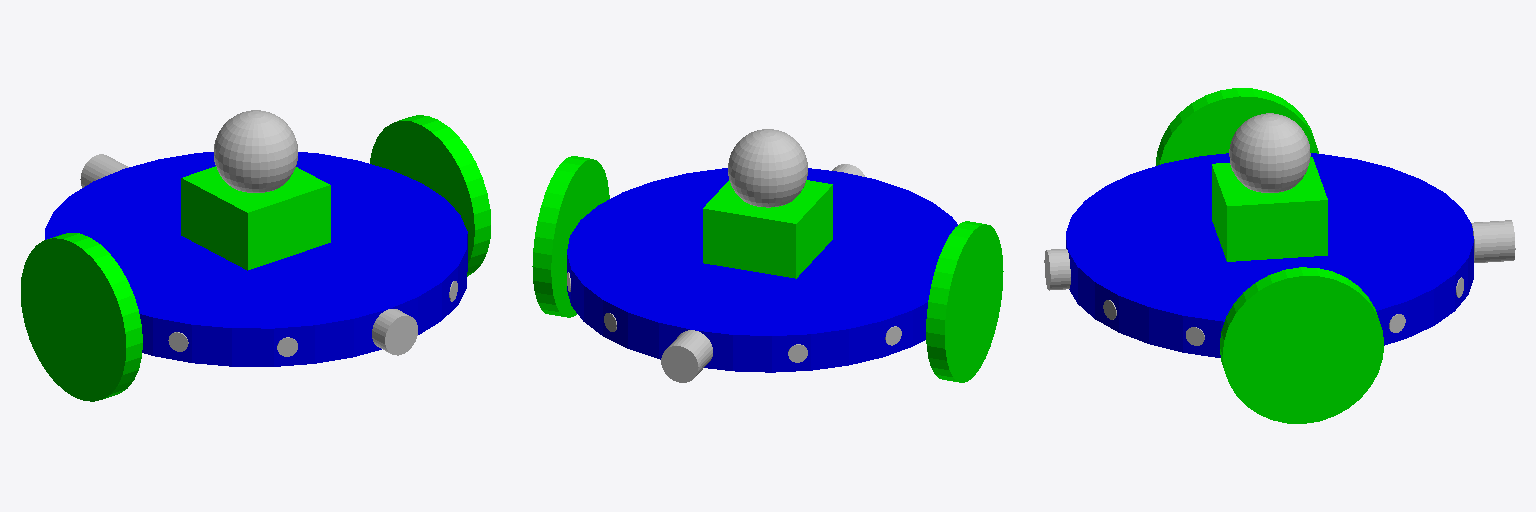
robot.urdf — vc_robot:
<?xml version="1.0"?>
<robot name="vc_robot">

<link name="world">
</link>

<link name="base">
<visual>
<origin xyz="0 0 0" rpy="0 0 0"/>
<geometry>
<cylinder length="0.4" radius="2.0"/>
</geometry>
<material name="blue">
<color rgba="0 0 1 1"/>
</material>
</visual>
<inertial>
<origin xyz="0 0 0" rpy="0 0 0" />
<mass value ="10"/>
<inertia ixx="100" ixy="0" ixz="0" iyy="100" iyz="0" izz="100"/>
</inertial>
</link>

<link name="main_wheel_axis">
<visual>
<origin xyz="0 0 0" rpy="1.5708 1.5708 0"/>
<geometry>
<cylinder length="3.9" radius="0.1"/>
</geometry>
<material name="green">
<color rgba="0.0 1 0.0 1"/>
</material>
</visual>
<inertial>
<origin rpy="0 0 0" xyz="0 0 0"/>
<mass value="5"/>
<inertia ixx="100" ixy="0" ixz="0" iyy="100" iyz="0" izz="100"/>
</inertial>
</link>

<link name="support_wheel_axis">
<visual>
<origin xyz="0 0 0" rpy="1.5708 1.5708 0"/>
<geometry>
<cylinder length="3.9" radius="0.1"/>
</geometry>
<material name="green">
<color rgba="0 1 0 1"/>
</material>
</visual>
<inertial>
<origin rpy="0 0 0" xyz="0 0 0"/>
<mass value="5"/>
<inertia ixx="100" ixy="0" ixz="0" iyy="100" iyz="0" izz="100"/>
</inertial>
</link>

<link name="main_wheel_one">
<visual>
<origin rpy="0 1.5708 0" xyz="0 0 0"/>
<geometry>
<cylinder length="0.2" radius="0.8"/>
</geometry>
<material name="green">
<color rgba="0 1 0 1"/>
</material>
</visual>
<inertial>
<origin rpy="0 0 0" xyz="0 0 0"/>
<mass value="5"/>
<inertia ixx="100" ixy="0" ixz="0" iyy="100" iyz="0" izz="100"/>
</inertial>
</link>

<link name="main_wheel_two">
<visual>
<origin rpy="0 1.5708 0" xyz="0 0 0"/>
<geometry>
<cylinder length="0.2" radius="0.8"/>
</geometry>
<material name="green">
<color rgba="0 1 0 1"/>
</material>
</visual>
<inertial>
<origin rpy="0 0 0" xyz="0 0 0"/>
<mass value="5"/>
<inertia ixx="100" ixy="0" ixz="0" iyy="100" iyz="0" izz="100"/>
</inertial>
</link>

<link name="support_wheel_one">
<visual>
<origin rpy="0 1.5708 0" xyz="0 0 0"/>
<geometry>
<sphere radius="0.2"/>
</geometry>
<material name="green">
<color rgba="0 1 0 1"/>
</material>
</visual>
<inertial>
<origin rpy="0 0 0" xyz="0 0 0"/>
<mass value="5"/>
<inertia ixx="100" ixy="0" ixz="0" iyy="100" iyz="0" izz="100"/>
</inertial>
</link>

<link name="support_wheel_two">
<visual>
<origin rpy="0 1.5708 0" xyz="0 0 0"/>
<geometry>
<sphere radius="0.2"/>
</geometry>
<material name="green">
<color rgba="0 1 0 1"/>
</material>
</visual>
<inertial>
<origin rpy="0 0 0" xyz="0 0 0"/>
<mass value="5"/>
<inertia ixx="100" ixy="0" ixz="0" iyy="100" iyz="0" izz="100"/>
</inertial>
</link>

<link name="ultrasonic_one">
<visual>
<origin xyz="0 0 0" rpy="0 1.5708 0" />
<geometry>
<cylinder radius="0.1" length="0.01"/>
</geometry>
<material name="gray">
<color rgba="0.8 0.8 0.8 1"/>
</material>
</visual>
<inertial>
<origin xyz="0 0 0" rpy="0 0 0" />
<mass value ="0.1"/>
<inertia ixx="100" ixy="0" ixz="0" iyy="100" iyz="0" izz="100"/>
</inertial>
</link>

<link name="ultrasonic_two">
<visual>
<origin xyz="0 0 0" rpy="0 1.5708 0" />
<geometry>
<cylinder radius="0.1" length="0.01"/>
</geometry>
<material name="gray">
<color rgba="0.8 0.8 0.8 1"/>
</material>
</visual>
<inertial>
<origin xyz="0 0 0" rpy="0 0 0" />
<mass value ="0.1"/>
<inertia ixx="100" ixy="0" ixz="0" iyy="100" iyz="0" izz="100"/>
</inertial>
</link>

<link name="ultrasonic_three">
<visual>
<origin xyz="0 0 0" rpy="0 1.5708 0" />
<geometry>
<cylinder radius="0.1" length="0.01"/>
</geometry>
<material name="gray">
<color rgba="0.8 0.8 0.8 1"/>
</material>
</visual>
<inertial>
<origin xyz="0 0 0" rpy="0 0 0" />
<mass value ="0.1"/>
<inertia ixx="100" ixy="0" ixz="0" iyy="100" iyz="0" izz="100"/>
</inertial>
</link>

<link name="ultrasonic_four">
<visual>
<origin xyz="0 0 0" rpy="0 1.5708 0" />
<geometry>
<cylinder radius="0.1" length="0.01"/>
</geometry>
<material name="gray">
<color rgba="0.8 0.8 0.8 1"/>
</material>
</visual>
<inertial>
<origin xyz="0 0 0" rpy="0 0 0" />
<mass value ="0.1"/>
<inertia ixx="100" ixy="0" ixz="0" iyy="100" iyz="0" izz="100"/>
</inertial>
</link>

<link name="ultrasonic_five">
<visual>
<origin xyz="0 0 0" rpy="0 1.5708 0" />
<geometry>
<cylinder radius="0.1" length="0.01"/>
</geometry>
<material name="gray">
<color rgba="0.8 0.8 0.8 1"/>
</material>
</visual>
<inertial>
<origin xyz="0 0 0" rpy="0 0 0" />
<mass value ="0.1"/>
<inertia ixx="100" ixy="0" ixz="0" iyy="100" iyz="0" izz="100"/>
</inertial>
</link>

<link name="ultrasonic_six">
<visual>
<origin xyz="0 0 0" rpy="0 1.5708 0" />
<geometry>
<cylinder radius="0.1" length="0.01"/>
</geometry>
<material name="gray">
<color rgba="0.8 0.8 0.8 1"/>
</material>
</visual>
<inertial>
<origin xyz="0 0 0" rpy="0 0 0" />
<mass value ="0.1"/>
<inertia ixx="100" ixy="0" ixz="0" iyy="100" iyz="0" izz="100"/>
</inertial>
</link>

<link name="ultrasonic_seven">
<visual>
<origin xyz="0 0 0" rpy="0 1.5708 0" />
<geometry>
<cylinder radius="0.1" length="0.01"/>
</geometry>
<material name="gray">
<color rgba="0.8 0.8 0.8 1"/>
</material>
</visual>
<inertial>
<origin xyz="0 0 0" rpy="0 0 0" />
<mass value ="0.1"/>
<inertia ixx="100" ixy="0" ixz="0" iyy="100" iyz="0" izz="100"/>
</inertial>
</link>

<link name="ultrasonic_eight">
<visual>
<origin xyz="0 0 0" rpy="0 1.5708 0" />
<geometry>
<cylinder radius="0.1" length="0.01"/>
</geometry>
<material name="gray">
<color rgba="0.8 0.8 0.8 1"/>
</material>
</visual>
<inertial>
<origin xyz="0 0 0" rpy="0 0 0" />
<mass value ="0.1"/>
<inertia ixx="100" ixy="0" ixz="0" iyy="100" iyz="0" izz="100"/>
</inertial>
</link>

<link name="stereo_camera">
<visual>
<origin xyz="0 0 0" rpy="0 1.5708 0" />
<geometry>
<cylinder radius="0.2" length="0.4"/>
</geometry>
<material name="gray">
<color rgba="0.8 0.8 0.8 1"/>
</material>
</visual>
<inertial>
<origin xyz="0 0 0" rpy="0 0 0" />
<mass value ="1"/>
<inertia ixx="100" ixy="0" ixz="0" iyy="100" iyz="0" izz="100"/>
</inertial>
</link>

<link name="monocular_camera">
<visual>
<origin xyz="0 0 0" rpy="0.0 1.5708 0" />
<geometry>
<cylinder radius="0.2" length="0.2"/>
</geometry>
<material name="gray">
<color rgba="0.8 0.8 0.8 1"/>
</material>
</visual>
<inertial>
<origin xyz="0 0 0" rpy="0 0 0" />
<mass value ="1"/>
<inertia ixx="100" ixy="0" ixz="0" iyy="100" iyz="0" izz="100"/>
</inertial>
</link>

<link name="stand">
<visual>
<origin xyz="0 0 0" rpy="0 0 0"/>
<geometry>
<box size="1.0 1.0 0.6"/>
</geometry>
<material name="green">
<color rgba="0 1 0 1"/>
</material>
</visual>
<inertial>
<origin xyz="0 0 0" rpy="0 0 0" />
<mass value ="5"/>
<inertia ixx="100" ixy="0" ixz="0" iyy="100" iyz="0" izz="100"/>
</inertial>
</link>

<link name="laser_rf">
<visual>
<origin xyz="0 0 0" rpy="0 0 0"/>
<geometry>
<sphere radius="0.4"/>
</geometry>
<material name="gray">
<color rgba="0.8 0.8 0.8 1"/>
</material>
</visual>
<inertial>
<origin xyz="0 0 0" rpy="0 0 0" />
<mass value ="0.2"/>
<inertia ixx="100" ixy="0" ixz="0" iyy="100" iyz="0" izz="100"/>
</inertial>
</link>

<joint name="immovable_connection" type="fixed">
<parent link="world"/>
<child link="base"/>
<origin xyz="0 0 0" rpy="0 0 0.15" />
<axis xyz="0 0 0"/>
<limit lower="0" upper="0" effort="0" velocity="0"/>
</joint>

<joint name="main_wheel_axis_connection" type="fixed">
<parent link="base"/>
<child link="main_wheel_axis"/>
<origin rpy="0 0 0" xyz="0 0 0" />
<axis xyz="0 0 0"/>
<limit lower="0" upper="0" effort="0" velocity="0"/>
</joint>

<joint name="support_wheel_axis_connection" type="fixed">
<parent link="base"/>
<child link="support_wheel_axis"/>
<origin rpy="0 0 0" xyz="0 0 0" />
<axis xyz="0 0 0"/>
<limit lower="0" upper="0" effort="0" velocity="0"/>
</joint>

<joint name="main_wheel_one_movement" type="continuous">
<parent link="main_wheel_axis"/>
<child link="main_wheel_one"/>
<origin rpy="0.0 0.0 0.0" xyz="-2.1 0.0 0.0"/>
</joint>

<joint name="main_wheel_two_movement" type="continuous">
<parent link="main_wheel_axis"/>
<child link="main_wheel_two"/>
<origin rpy="0.0 0.0 0.0" xyz="2.1 0.0 0.0"/>
</joint>

<joint name="support_wheel_one_movement" type="continuous">
<parent link="support_wheel_axis"/>
<child link="support_wheel_one"/>
<origin rpy="0.0 0.0 0.0" xyz="0.0 -1.4 -0.25"/>
</joint>

<joint name="support_wheel_two_movement" type="continuous">
<parent link="support_wheel_axis"/>
<child link="support_wheel_two"/>
<origin rpy="0.0 0.0 0.0" xyz="0.0 1.4 -0.25"/>
</joint>

<joint name="ultrasonic_one_connection" type="fixed">
<parent link="base"/>
<child link="ultrasonic_one"/>
<origin rpy="0.0 0.0 1.0472" xyz="1.0 1.732 0.0"/>
</joint>

<joint name="ultrasonic_two_connection" type="fixed">
<parent link="base"/>
<child link="ultrasonic_two"/>
<origin rpy="0.0 0.0 0.523599" xyz="1.732 1.0 0"/>
</joint>

<joint name="ultrasonic_three_connection" type="fixed">
<parent link="base"/>
<child link="ultrasonic_three"/>
<origin rpy="0.0 0.0 -1.0472" xyz="1.0 -1.732 0.0"/>
</joint>

<joint name="ultrasonic_four_connection" type="fixed">
<parent link="base"/>
<child link="ultrasonic_four"/>
<origin rpy="0.0 0.0 -0.523599" xyz="1.732 -1.0 0.0"/>
</joint>

<joint name="ultrasonic_five_connection" type="fixed">
<parent link="base"/>
<child link="ultrasonic_five"/>
<origin rpy="0.0 0.0 -2.094398" xyz="-1.0 -1.732 0.0"/>
</joint>

<joint name="ultrasonic_six_connection" type="fixed">
<parent link="base"/>
<child link="ultrasonic_six"/>
<origin rpy="0.0 0.0 -2.617997" xyz="-1.732 -1.0 0.0"/>
</joint>

<joint name="ultrasonic_seven_connection" type="fixed">
<parent link="base"/>
<child link="ultrasonic_seven"/>
<origin rpy="0.0 0.0 2.094398" xyz="-1.0 1.732 0.0"/>
</joint>

<joint name="ultrasonic_eight_connection" type="fixed">
<parent link="base"/>
<child link="ultrasonic_eight"/>
<origin rpy="0.0 0.0 2.617997" xyz="-1.732 1.0 0.0"/>
</joint>

<joint name="stereo_camera_connection" type="fixed">
<parent link="base"/>
<child link="stereo_camera"/>
<origin rpy="0.0 0.0 1.5708" xyz="0.0 2.2 0.0"/>
</joint>

<joint name="monocular_camera_connection" type="fixed">
<parent link="base"/>
<child link="monocular_camera"/>
<origin rpy="0.0 0.0 -1.5708" xyz="0.0 -2.1 0.0"/>
</joint>

<joint name="stand_connection" type="fixed">
<parent link="base"/>
<child link="stand"/>
<origin rpy="0.0 0.0 0.0" xyz="0.0 0.0 0.5"/>
</joint>

<joint name="laser_rf_connection" type="fixed">
<parent link="stand"/>
<child link="laser_rf"/>
<origin rpy="0.0 0.0 0.0" xyz="0.0 0.0 0.6"/>
</joint>

</robot>

--- Render facts (derived) ---
Views: 3 orthographic renders of the robot side by side, from view 1: azimuth 30°, elevation 25°; view 2: azimuth 150°, elevation 25°; view 3: azimuth 270°, elevation 25°.
Model vc_robot with 20 links and 19 joints (4 continuous, 15 fixed), rooted at world, posed every joint at zero.
Visible links, largest first — view 1: base, main_wheel_one, stand, main_wheel_two, laser_rf, monocular_camera, stereo_camera; view 2: base, main_wheel_one, stand, main_wheel_two, laser_rf, stereo_camera; view 3: base, main_wheel_two, stand, main_wheel_one, laser_rf, stereo_camera, monocular_camera.
Link boxes in pixels (x1=…): base: x1=45, y1=152, x2=467, y2=366; main_wheel_one: x1=21, y1=233, x2=142, y2=401; stand: x1=181, y1=166, x2=330, y2=270; main_wheel_two: x1=370, y1=115, x2=490, y2=276; laser_rf: x1=214, y1=110, x2=297, y2=192; monocular_camera: x1=372, y1=309, x2=417, y2=355; stereo_camera: x1=80, y1=154, x2=128, y2=187; base: x1=567, y1=168, x2=957, y2=372; main_wheel_one: x1=926, y1=221, x2=1003, y2=382; stand: x1=703, y1=180, x2=832, y2=278; main_wheel_two: x1=532, y1=156, x2=609, y2=317; laser_rf: x1=728, y1=129, x2=807, y2=207; stereo_camera: x1=661, y1=330, x2=712, y2=382; base: x1=1066, y1=153, x2=1473, y2=357; main_wheel_two: x1=1220, y1=267, x2=1383, y2=423; stand: x1=1212, y1=157, x2=1327, y2=261; main_wheel_one: x1=1156, y1=88, x2=1318, y2=165; laser_rf: x1=1229, y1=113, x2=1310, y2=192; stereo_camera: x1=1471, y1=220, x2=1515, y2=262; monocular_camera: x1=1044, y1=249, x2=1070, y2=290.
Size in the robot's own frame: 4.59 by 4.61 by 2.3 metres.
Geometry: primitives only (box / cylinder / sphere), no mesh files.